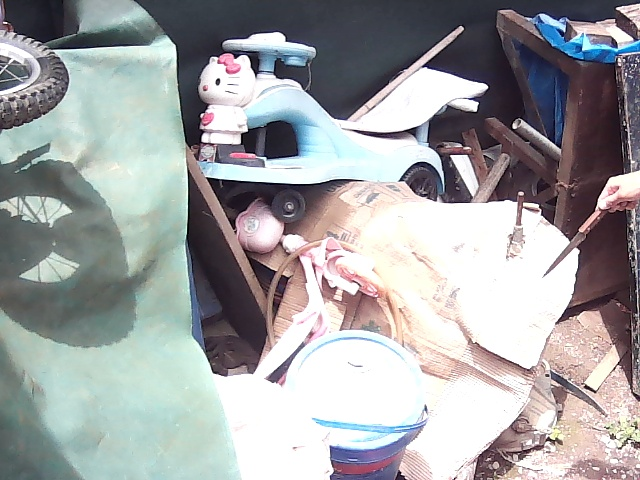cuchillo: (536, 209, 606, 284)
